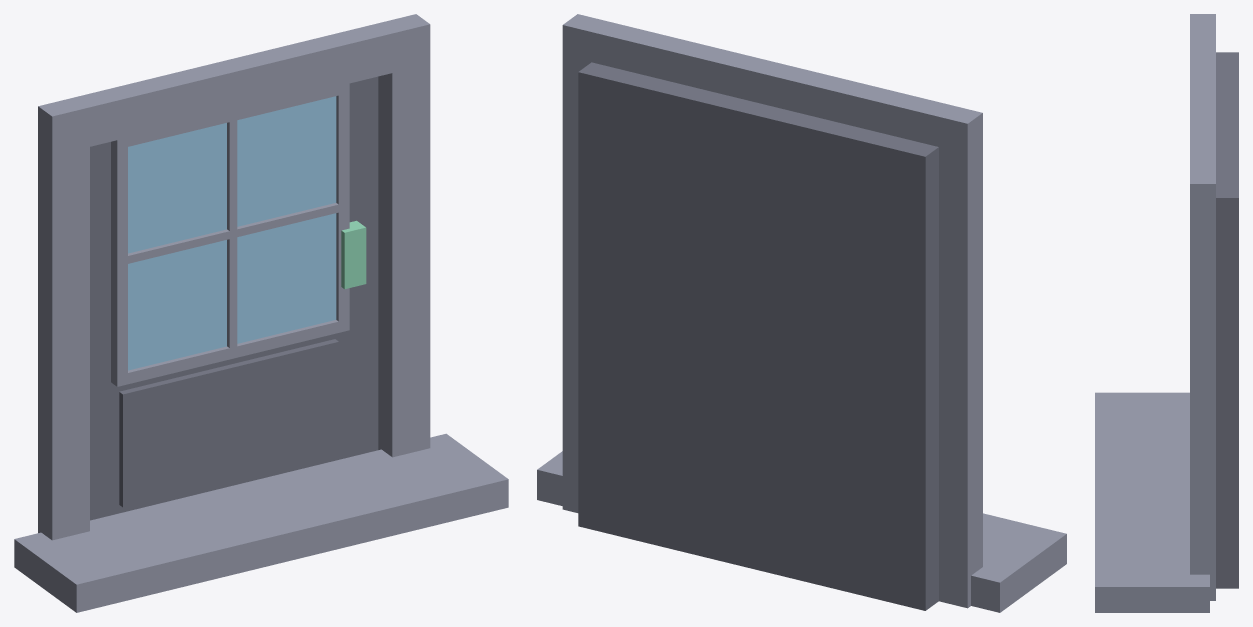
Rendered from door-glazed.glb.
3 views of the same model, side by side, from view 1: azimuth 30°, elevation 25°; view 2: azimuth 150°, elevation 25°; view 3: azimuth 270°, elevation 25° (orthographic). The views are drawn at different scales.
Visible parts, largest first — view 1: door-glazed; view 2: door-glazed; view 3: door-glazed.
Part boxes in pixels (<box>): door-glazed: <box>14,14,508,612</box>; door-glazed: <box>537,14,1066,612</box>; door-glazed: <box>1095,14,1238,612</box>.
Bounding box in the file's own units: 0.8 × 0.8 × 0.25.
1 material, 1 textured.
